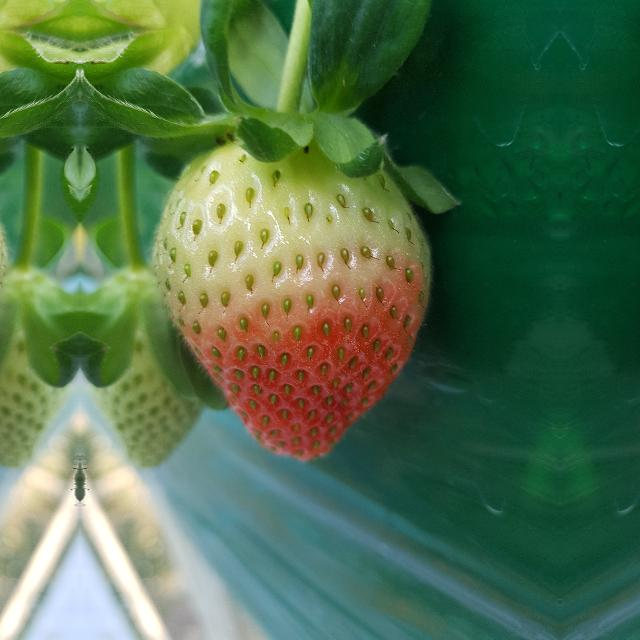Health_50: (149, 135, 433, 462)
